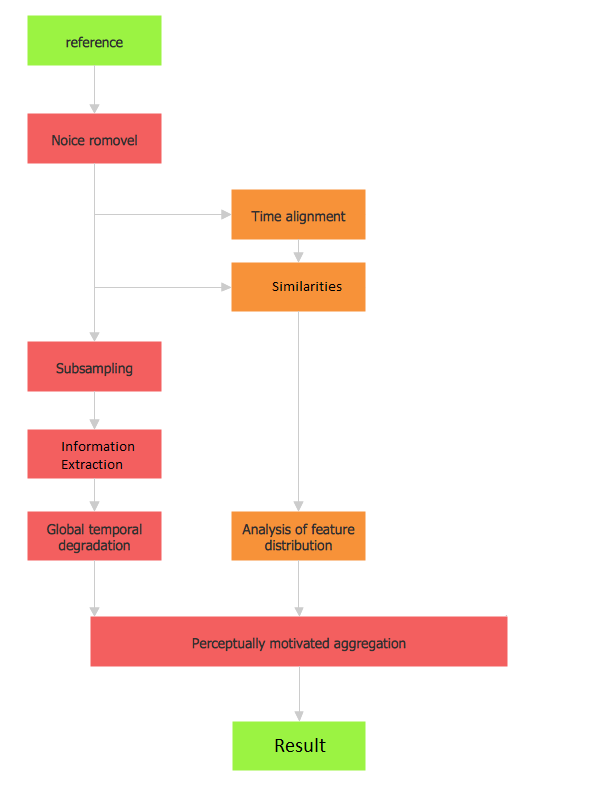arrow: (290, 308, 308, 512), (90, 168, 104, 340), (87, 209, 232, 222), (88, 280, 233, 293), (289, 559, 307, 617), (87, 553, 103, 618), (88, 63, 104, 112), (292, 667, 306, 721), (85, 473, 103, 510), (87, 388, 103, 429), (289, 236, 306, 263)
process: (87, 611, 513, 671), (23, 9, 165, 69), (23, 506, 165, 566), (228, 506, 369, 566), (227, 185, 370, 244), (23, 109, 164, 167), (228, 258, 370, 315), (227, 716, 369, 773), (22, 337, 165, 393), (25, 427, 166, 483)
text: (190, 634, 408, 653), (240, 521, 357, 552), (45, 521, 144, 555), (57, 438, 137, 472), (248, 204, 350, 227), (51, 359, 135, 379), (48, 131, 141, 147), (60, 31, 128, 52), (269, 278, 342, 294), (272, 735, 329, 755)
